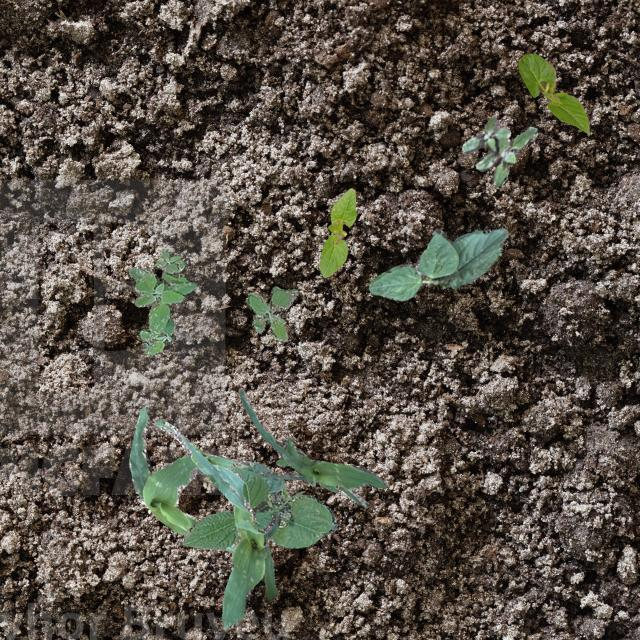crop: (154, 418, 278, 628), (128, 406, 250, 552), (238, 386, 386, 506), (182, 461, 336, 548), (368, 227, 508, 300), (518, 52, 588, 132), (318, 188, 356, 276)
weed: (127, 248, 195, 354), (461, 114, 536, 186), (246, 286, 296, 340), (274, 454, 336, 490)
